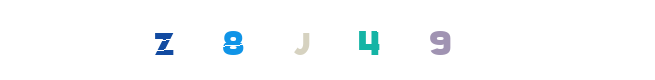4: (329, 0, 409, 80)
8: (193, 0, 273, 80)
9: (346, 0, 426, 80)
J: (287, 0, 367, 80)
Z: (124, 0, 204, 80)
